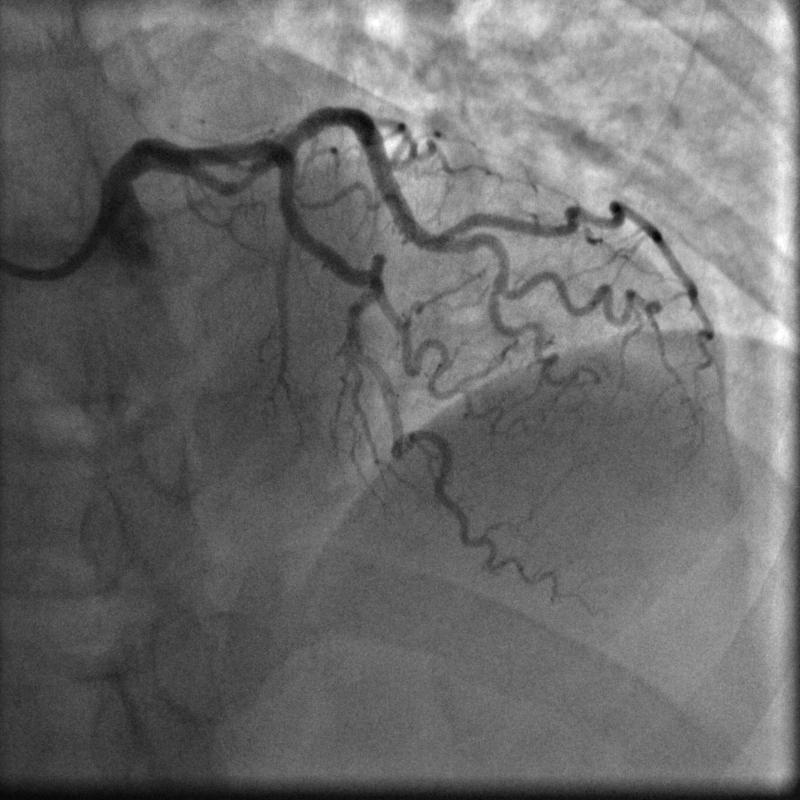Stenosis: (222, 160, 260, 193)
